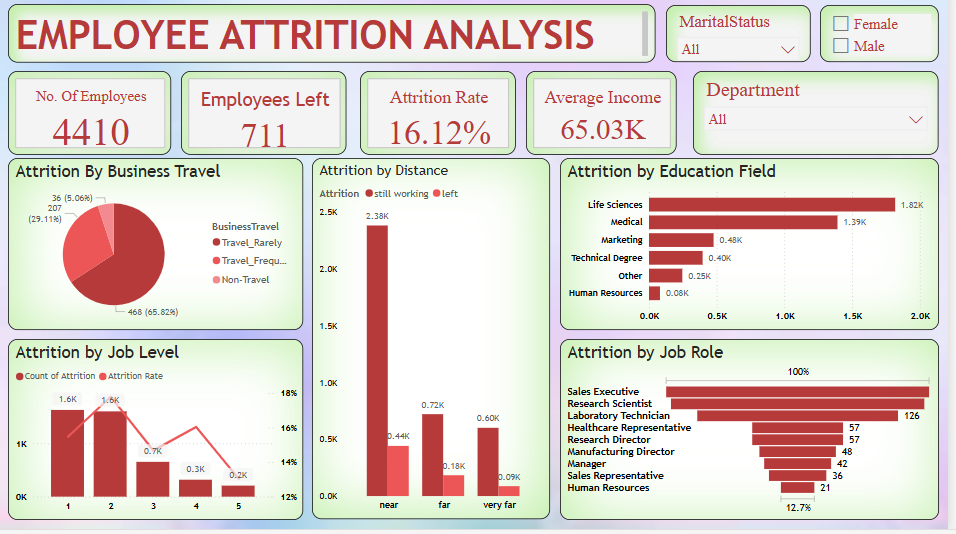

This screenshot's page, from the dashboard's own definition file:
{"tool":"powerbi","page":{"name":"Page 1","canvas":[1280,720],"ordinal":0},"visuals":[{"type":"textbox","box":[11.8,11.8,873.5,79],"z":0},{"type":"lineClusteredColumnComboChart","title":"Attrition by Job Level","fields":{"Category":["hr_attrition.JobLevel"],"Y2":["hr_attrition.attritionrate"],"Y":["CountNonNull(hr_attrition.Attrition)"]},"box":[11.8,463.6,398.1,243.6],"z":1000},{"type":"pieChart","title":"Attrition By Business Travel","fields":{"Y":["hr_attrition.Total attrition"],"Category":["hr_attrition.BusinessTravel"]},"box":[11.8,220.1,398.1,231.8],"z":2000},{"type":"funnel","title":"Attrition by Job Role","fields":{"Category":["hr_attrition.JobRole"],"Y":["employee_attrition.Total attrition"]},"box":[755.9,463.6,510.7,243.6],"z":3000},{"type":"cardVisual","fields":{"Data":["Sum(hr_attrition.EmployeeCount)"]},"box":[11.8,102.5,220.1,112.5],"z":4000},{"type":"clusteredColumnChart","title":"Attrition by Distance","fields":{"Category":["hr_attrition.distance"],"Y":["CountNonNull(hr_attrition.Attrition)"],"Series":["hr_attrition.Attrition"]},"box":[421.6,220.1,320.8,487.1],"z":5000},{"type":"cardVisual","fields":{"Data":["hr_attrition.Avgmonthlyincome"]},"box":[696.4,101.8,229.8,112.9],"z":6000},{"type":"cardVisual","fields":{"Data":["hr_attrition.Total attrition"]},"box":[245.2,102.5,223.4,112.5],"z":7000},{"type":"slicer","fields":{"Values":["hr_attrition.Gender"]},"box":[1107,13.4,159.6,77.3],"z":8000},{"type":"slicer","fields":{"Values":["hr_attrition.MaritalStatus"]},"box":[898.7,13.4,194.9,77.3],"z":9000},{"type":"slicer","fields":{"Values":["hr_attrition.Department"]},"box":[935.6,102.5,330.9,112.5],"z":10000},{"type":"clusteredBarChart","title":"Attrition by Education Field","fields":{"Category":["hr_attrition.EducationField"],"Y":["CountNonNull(hr_attrition.Attrition)"]},"box":[755.9,220.1,510.7,231.8],"z":11000},{"type":"cardVisual","fields":{"Data":["hr_attrition.attritionrate"]},"box":[477.6,101.8,209.2,112.9],"z":12000}]}

Visuals, with their boxes in screenshot pixels (x1, y1, x2, y2), scaled from the page's 1280x720 canvas onto the 956x534 screenshot:
textbox: <box>9,9,661,67</box>
"Attrition by Job Level" lineClusteredColumnComboChart: <box>9,344,306,525</box>
"Attrition By Business Travel" pieChart: <box>9,163,306,335</box>
"Attrition by Job Role" funnel: <box>565,344,946,525</box>
cardVisual - Sum(hr_attrition.EmployeeCount): <box>9,76,173,159</box>
"Attrition by Distance" clusteredColumnChart: <box>315,163,554,525</box>
cardVisual - hr_attrition.Avgmonthlyincome: <box>520,76,692,159</box>
cardVisual - hr_attrition.Total attrition: <box>183,76,350,159</box>
slicer - hr_attrition.Gender: <box>827,10,946,67</box>
slicer - hr_attrition.MaritalStatus: <box>671,10,817,67</box>
slicer - hr_attrition.Department: <box>699,76,946,159</box>
"Attrition by Education Field" clusteredBarChart: <box>565,163,946,335</box>
cardVisual - hr_attrition.attritionrate: <box>357,76,513,159</box>
